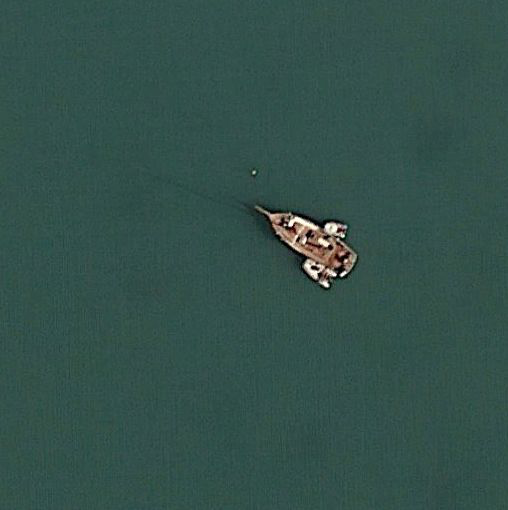boat: (248, 200, 358, 287)
